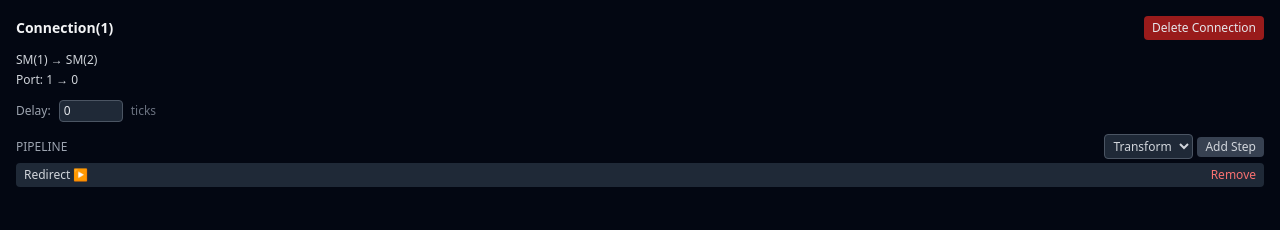
ConnectionEditorPanel › Redirect step shows target port input
The image size is (1280, 230).
Click the button with aria-label "toggle step 0". click: coordinates (56, 175)
box: [24,167,88,183]
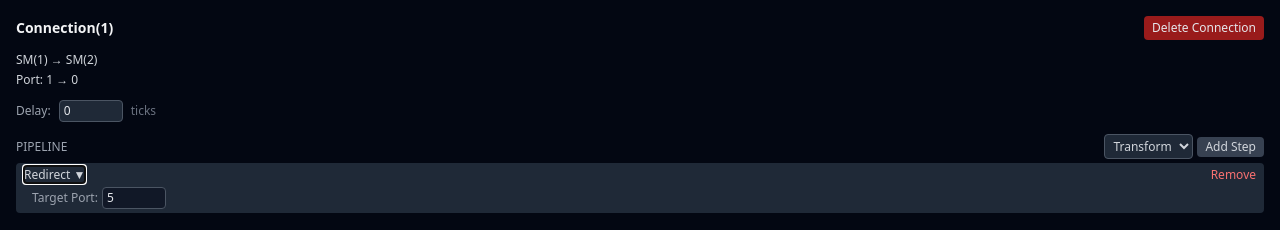
Now the number field named "redirect port" holds "5", box [102,187,166,209]
